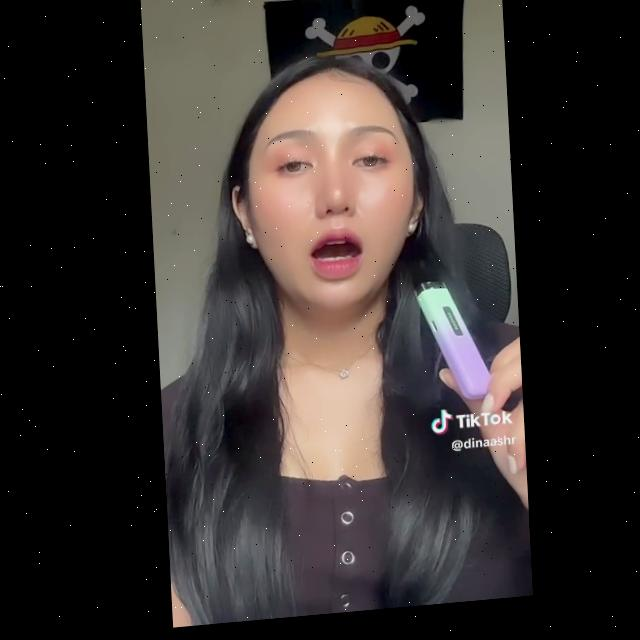vape: (413, 282, 486, 412)
